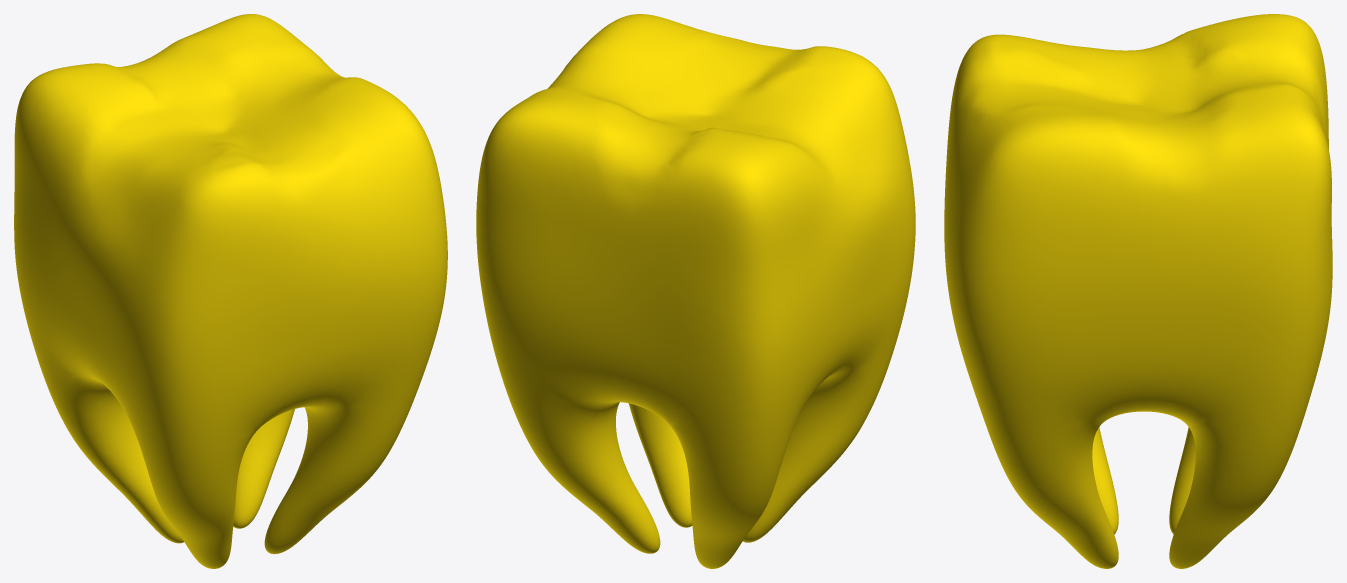
File: hate2.glb
The picture shows the model from 3 angles, left to right: view 1: azimuth 30°, elevation 25°; view 2: azimuth 150°, elevation 25°; view 3: azimuth 270°, elevation 25°; orthographic projection. The views are drawn at different scales.
Parts seen in each view (by area): view 1: Connect; view 2: Connect; view 3: Connect.
Boxes of the visible parts, bbox=[...] form: Connect: bbox=[14, 14, 447, 568]; Connect: bbox=[476, 14, 915, 568]; Connect: bbox=[944, 14, 1332, 568].
Bounding box in the file's own units: 2.44 × 3.48 × 2.51.
